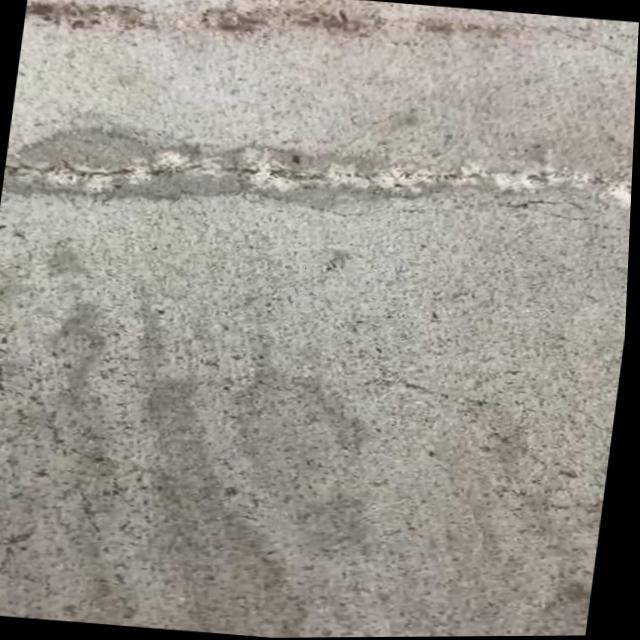Crack: (3, 99, 636, 235)
